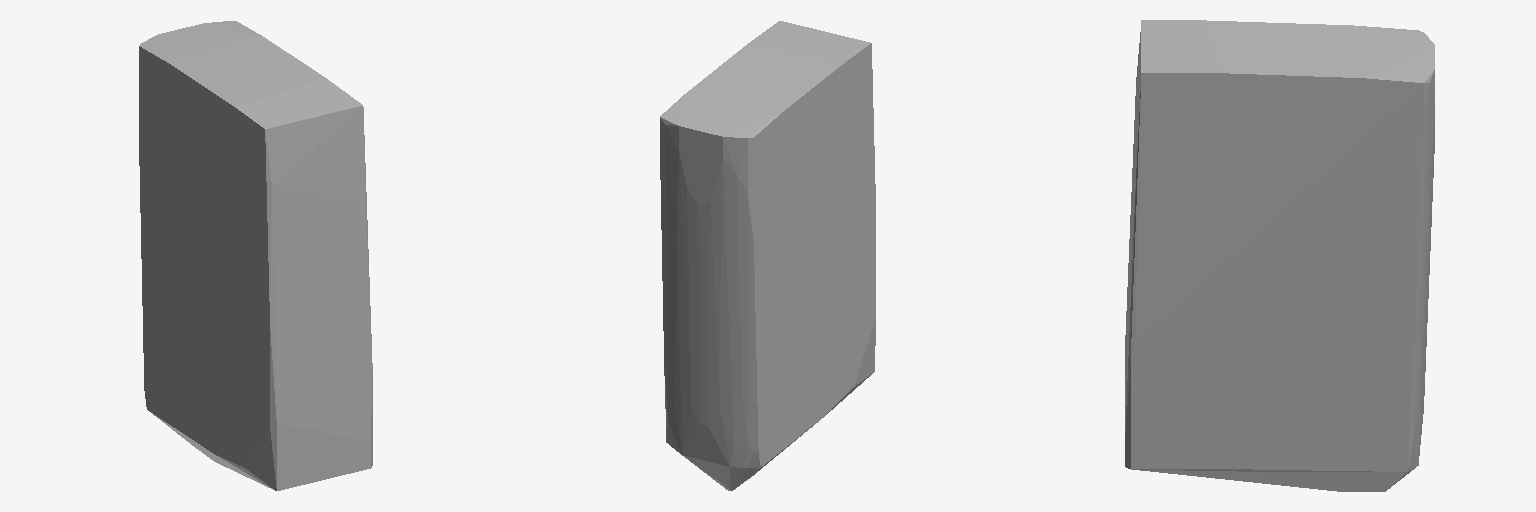
The robot description file, URDF, robot "root":
<robot name="root">
  <link name="link_c8691c86e110318ef2bc9da1ba799c60_convex_piece_0">
    <inertial>
      <origin rpy="0 0 0" xyz="0 0 0"/>
      <mass value="4.50E-05"/>
      <inertia ixx="2.34E-08" ixy="-3.96E-11" ixz="-3.30E-11" iyy="1.78E-08" iyz="1.74E-10" izz="8.27E-09"/>
    </inertial>
    <visual>
      <origin rpy="0 0 0" xyz="0 0 0"/>
      <geometry>
        <mesh filename="c8691c86e110318ef2bc9da1ba799c60_convex_piece_0.obj" scale="1.0000E+00"/>
      </geometry>
      <material name="">
        <color rgba="7.50E-01 7.50E-01 7.50E-01 1"/>
      </material>
    </visual>
    <collision>
      <origin rpy="0 0 0" xyz="0 0 0"/>
      <geometry>
        <mesh filename="c8691c86e110318ef2bc9da1ba799c60_convex_piece_0.obj" scale="1.0000E+00"/>
      </geometry>
    </collision>
  </link>
</robot>

--- Render facts (derived) ---
3 views of the same robot in one strip: view 1: azimuth 30°, elevation 25°; view 2: azimuth 150°, elevation 25°; view 3: azimuth 270°, elevation 25° (orthographic).
Robot: root — 1 links, 0 joints (none); root link link_c8691c86e110318ef2bc9da1ba799c60_convex_piece_0; default pose: all joints at 0.
Visible links, largest first — view 1: link_c8691c86e110318ef2bc9da1ba799c60_convex_piece_0; view 2: link_c8691c86e110318ef2bc9da1ba799c60_convex_piece_0; view 3: link_c8691c86e110318ef2bc9da1ba799c60_convex_piece_0.
Boxes of the visible links, <box> form: link_c8691c86e110318ef2bc9da1ba799c60_convex_piece_0: <box>139,21,372,490</box>; link_c8691c86e110318ef2bc9da1ba799c60_convex_piece_0: <box>660,21,875,490</box>; link_c8691c86e110318ef2bc9da1ba799c60_convex_piece_0: <box>1125,20,1434,491</box>.
Bounding box of the posed robot: 0.0192 × 0.0457 × 0.073 m (x, y, z).
1 mesh visuals loaded from 1 distinct referenced files (1 OBJ).